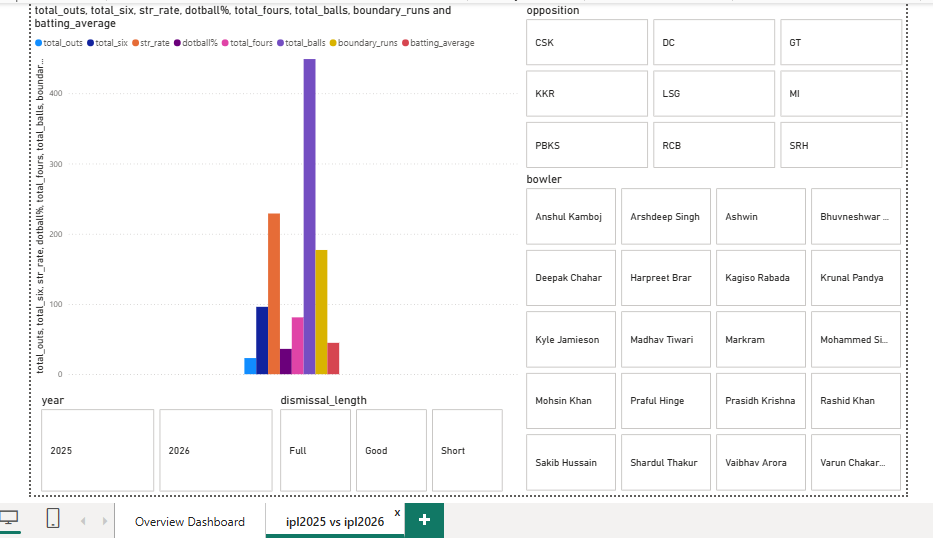

The dashboard page shown, as its layout file describes it:
{"tool":"powerbi","page":{"name":"ipl2025 vs ipl2026","canvas":[1280,720],"ordinal":1},"visuals":[{"type":"lineClusteredColumnComboChart","fields":{"Y":["Average_score.total_outs","Average_score.total_six","Average_score.str_rate","Average_score.dotball%","Average_score.total_fours","Average_score.total_balls","Average_score.boundary_runs","Average_score.batting_average"]},"box":[0,0,720,557.6],"z":0},{"type":"advancedSlicerVisual","fields":{"Values":["vaibhav_sooryavanshi_ipl_data.year"]},"box":[10.2,570.7,349.8,149.3],"z":1000},{"type":"advancedSlicerVisual","fields":{"Values":["vaibhav_sooryavanshi_ipl_data.opposition"]},"box":[720,0,560.5,247.3],"z":2000},{"type":"advancedSlicerVisual","fields":{"Values":["vaibhav_sooryavanshi_ipl_data.dismissal_length"]},"box":[360,570.7,336.6,149.3],"z":3000},{"type":"advancedSlicerVisual","fields":{"Values":["vaibhav_sooryavanshi_ipl_data.bowler"]},"box":[720,247.3,560.5,472.7],"z":4000}]}

Visuals, with their boxes on the page's 1280x720 design canvas (x1, y1, x2, y2). These are canvas units, not pixel positions in the 933x538 screenshot, which may show the page scaled, cropped or inside an application window:
lineClusteredColumnComboChart - Average_score.total_outs x Average_score.total_six: Rect(0, 0, 720, 558)
advancedSlicerVisual - vaibhav_sooryavanshi_ipl_data.year: Rect(10, 571, 360, 720)
advancedSlicerVisual - vaibhav_sooryavanshi_ipl_data.opposition: Rect(720, 0, 1280, 247)
advancedSlicerVisual - vaibhav_sooryavanshi_ipl_data.dismissal_length: Rect(360, 571, 697, 720)
advancedSlicerVisual - vaibhav_sooryavanshi_ipl_data.bowler: Rect(720, 247, 1280, 720)
